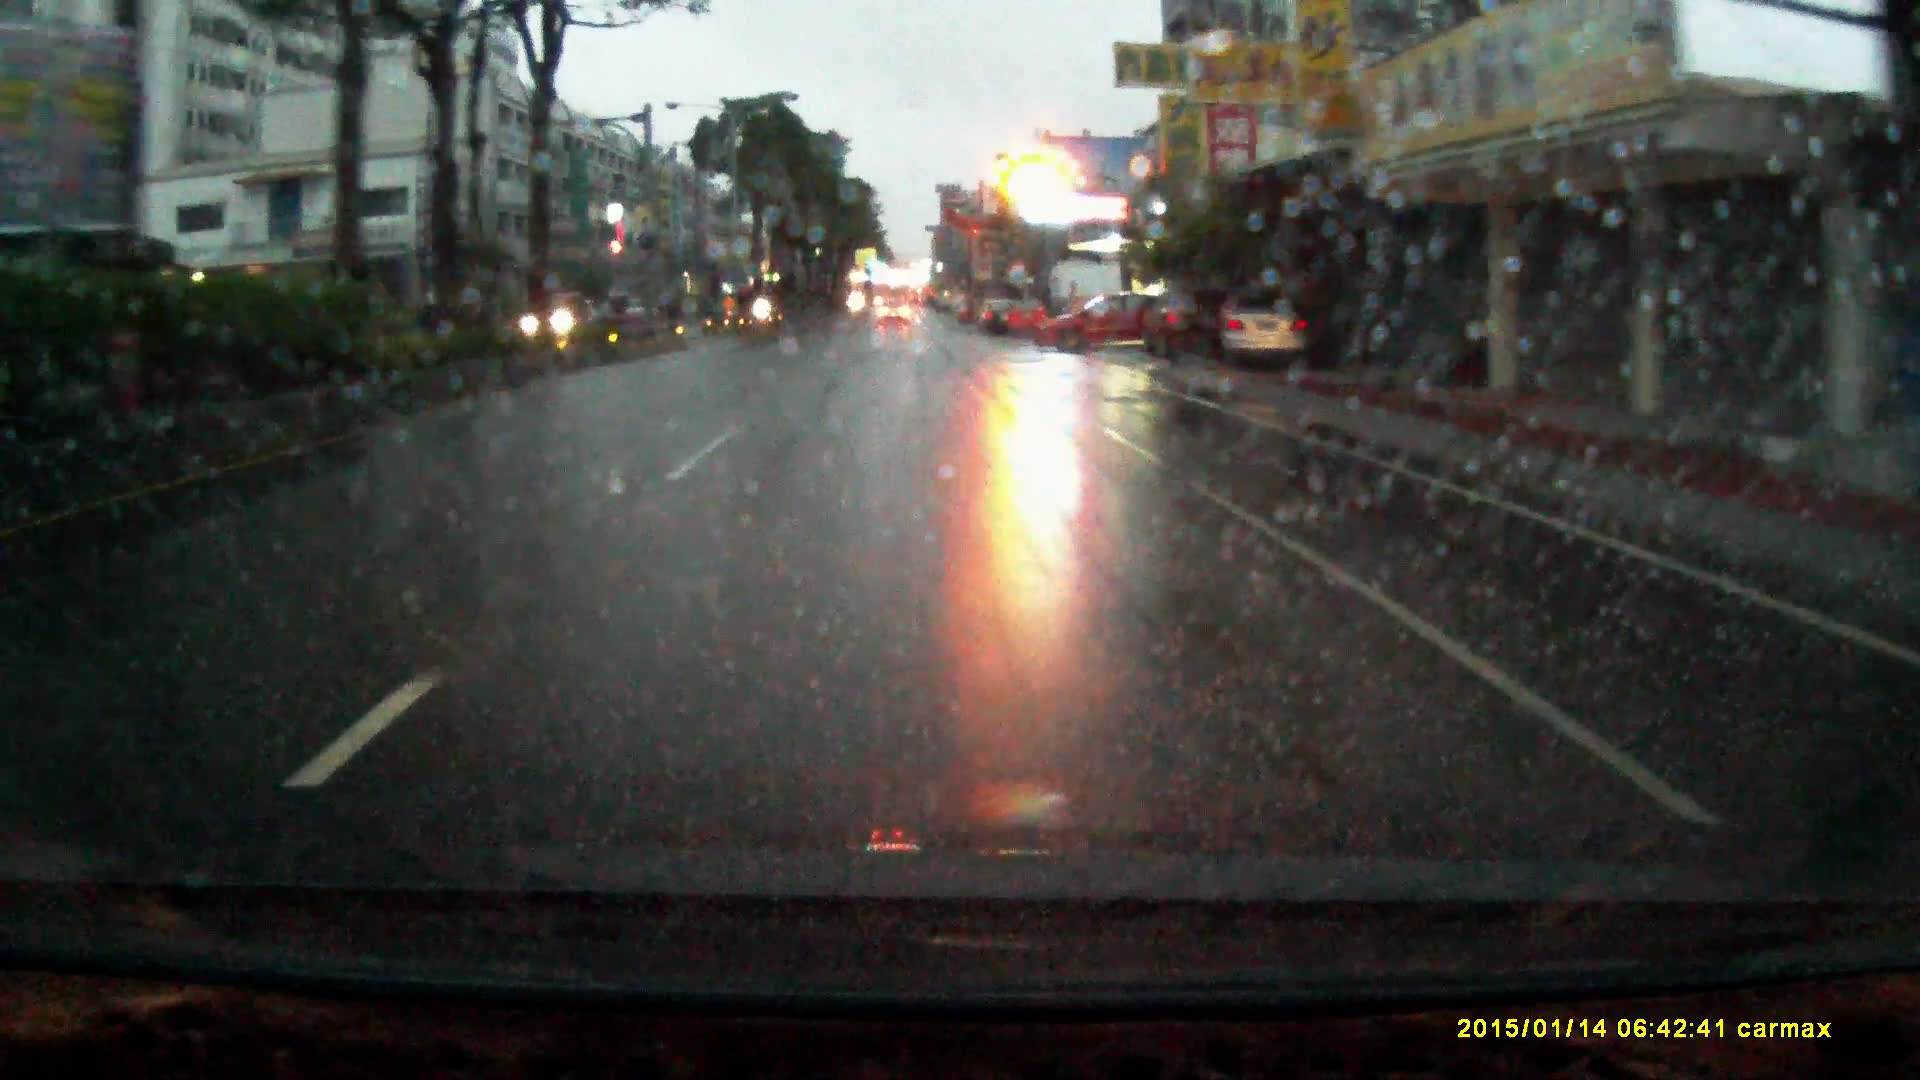vehicle: (1031, 294, 1179, 355), (1216, 293, 1313, 375), (1143, 287, 1229, 361), (520, 295, 592, 339), (1006, 298, 1050, 338), (977, 299, 1021, 338), (878, 301, 913, 328)
